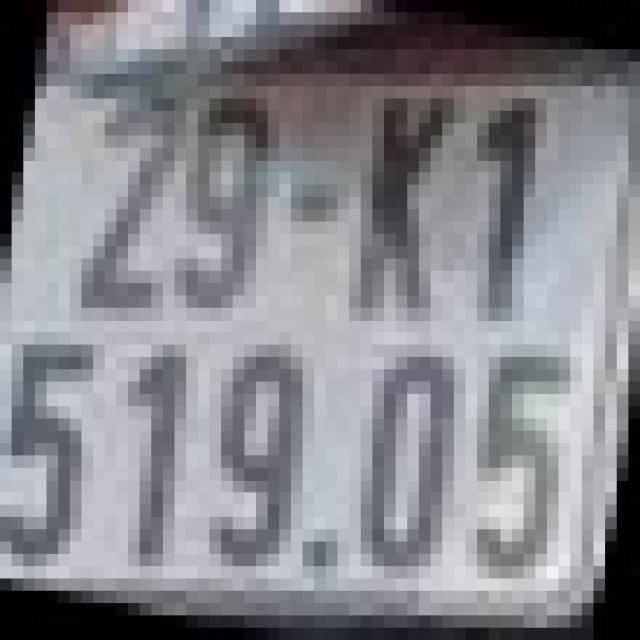0: (361, 357, 454, 566)
1: (477, 98, 547, 320), (128, 345, 186, 566)
2: (81, 99, 163, 308)
5: (0, 332, 93, 554), (477, 357, 570, 578)
9: (210, 345, 302, 566), (175, 99, 268, 308)
K: (349, 86, 454, 320)
